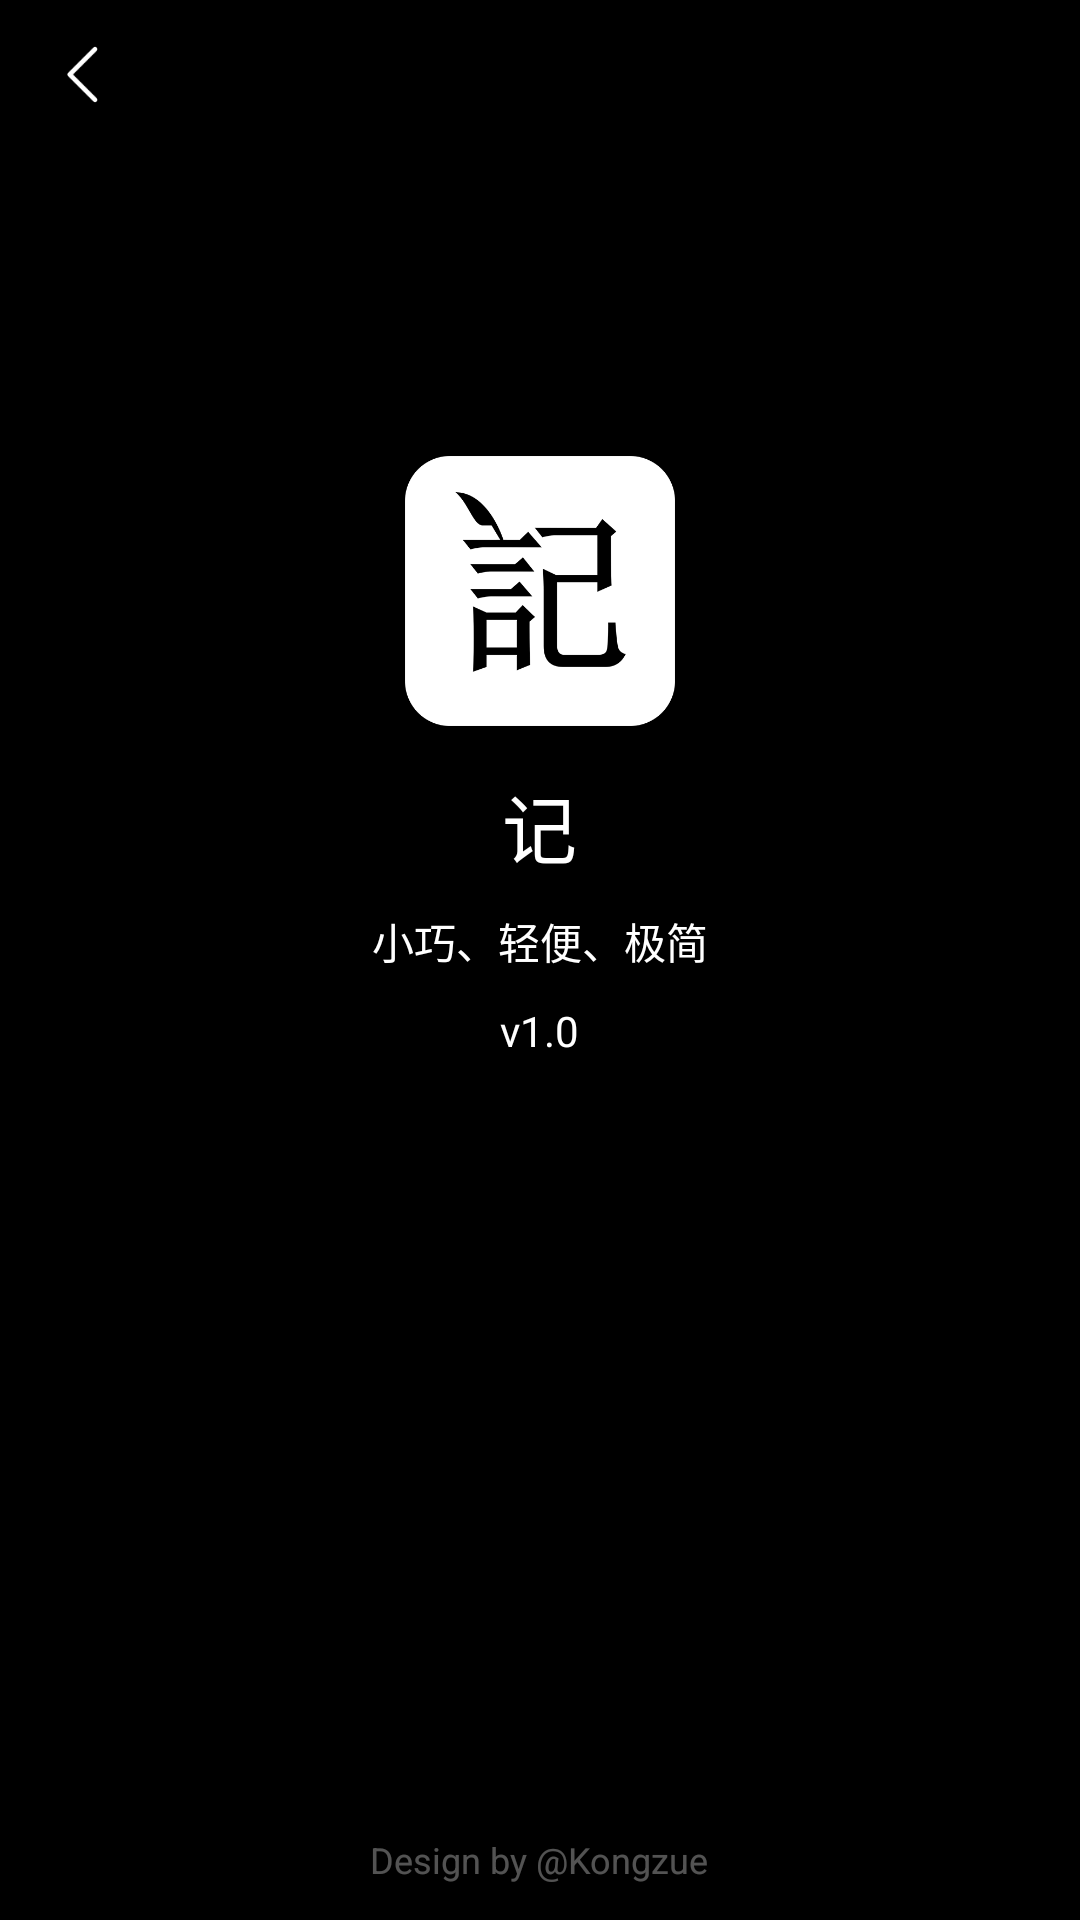

Screen size 1080x1920. Icon name, then its box in pixels as detection(x1, y1, x2, y2):
back: detection(67, 46, 98, 103)
